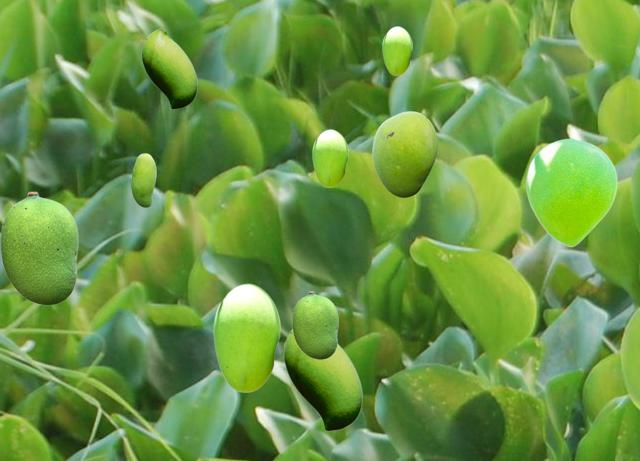green_mango: (526, 138, 616, 246), (0, 191, 77, 304), (283, 329, 361, 430), (213, 283, 279, 391), (372, 111, 436, 196), (141, 28, 196, 108), (292, 291, 337, 358), (312, 129, 347, 186), (382, 26, 411, 74), (131, 153, 155, 206)
